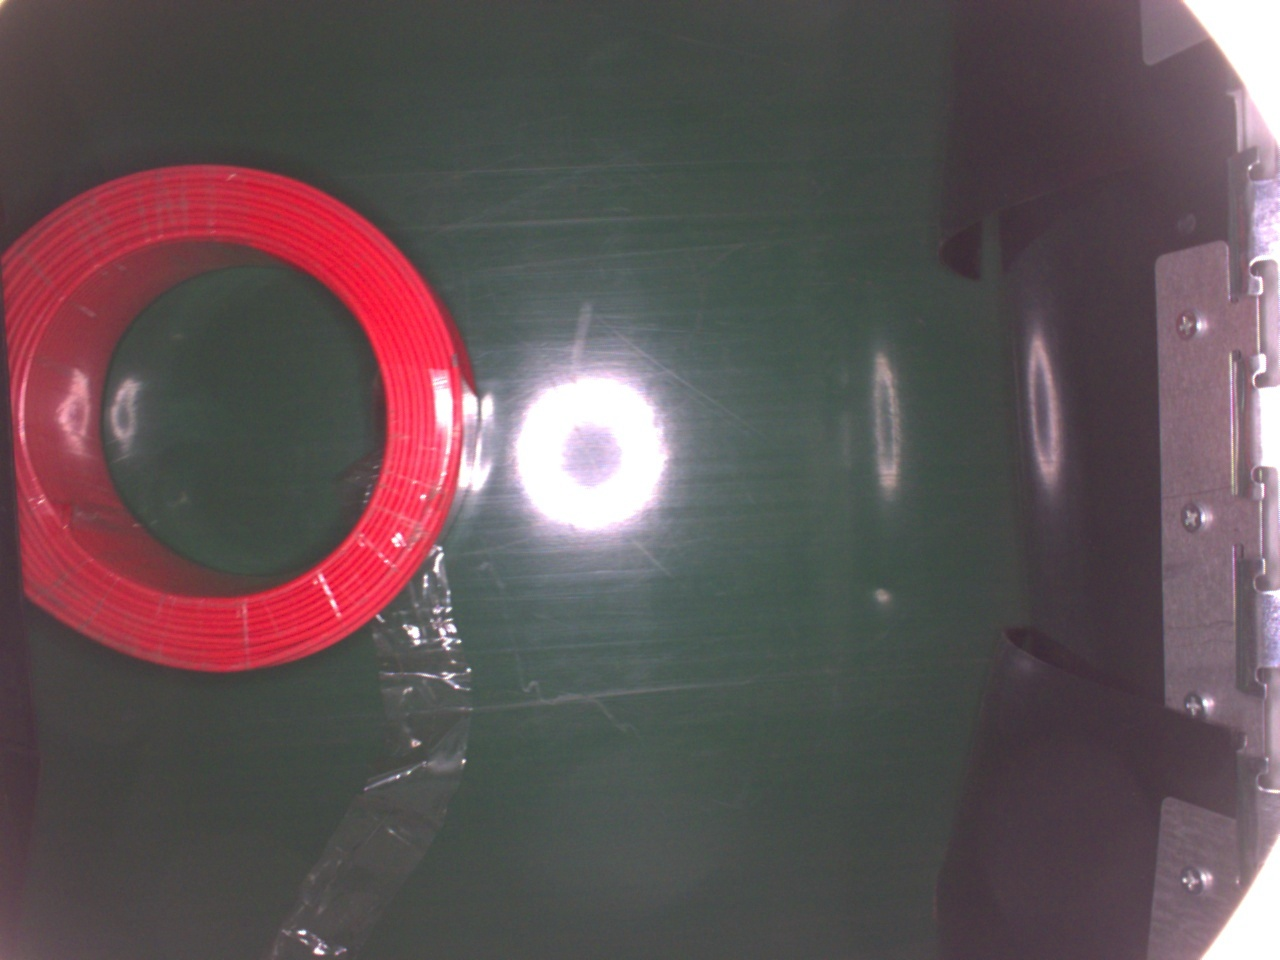red: (0, 164, 482, 674)
